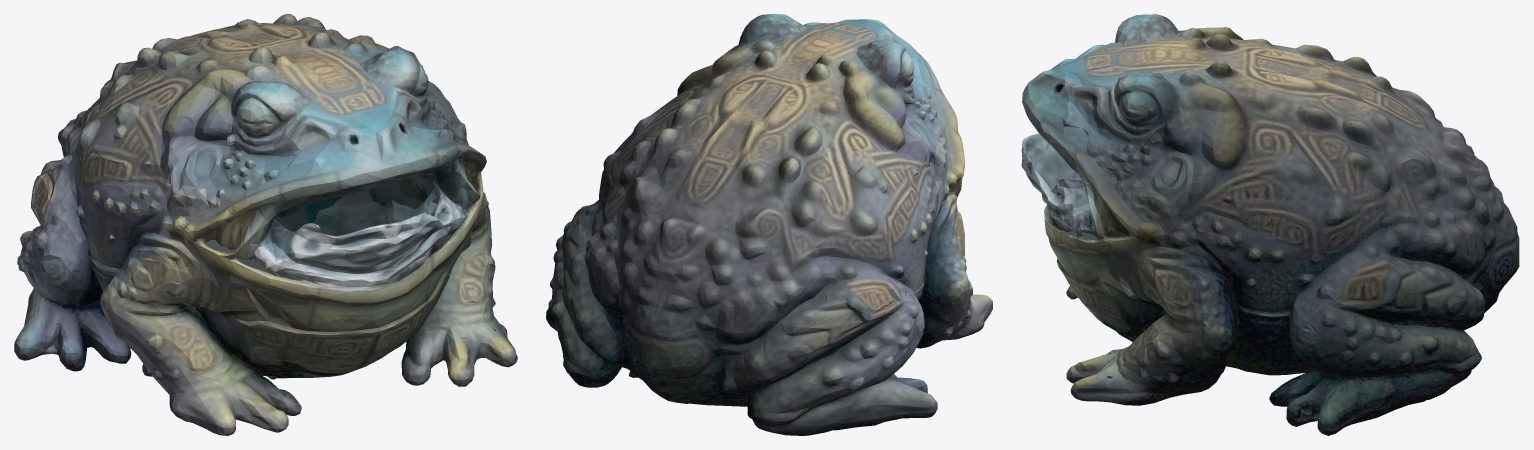
Rendered from mawdeep.glb.
The picture shows the model from 3 angles, left to right: view 1: azimuth 30°, elevation 25°; view 2: azimuth 150°, elevation 25°; view 3: azimuth 270°, elevation 25°; orthographic projection. The views are drawn at different scales.
Parts seen in each view (by area): view 1: world; view 2: world; view 3: world.
Boxes of the visible parts, x1,y1,x2,y2 form: world: [14, 14, 517, 435]; world: [546, 14, 992, 435]; world: [1021, 14, 1519, 435].
Size of the model in its own units: 0.9504 by 0.673 by 0.9979.
1 material, 1 textured.
